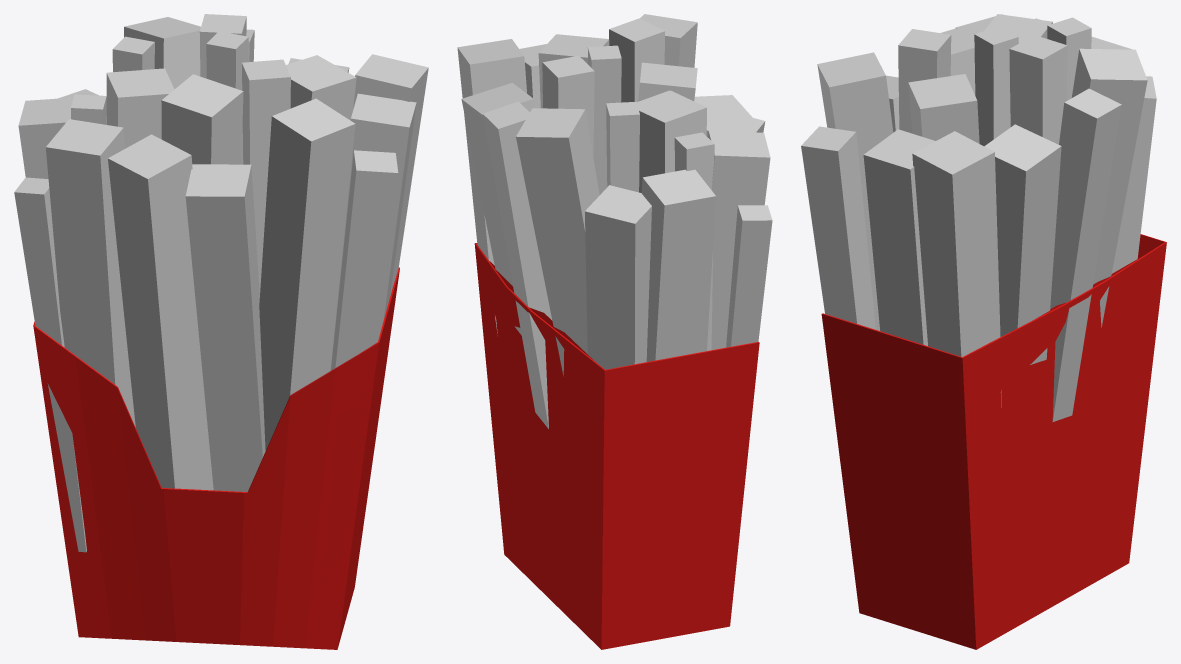
Rendered from kentang.fbx.
3 views of the same model, side by side, from view 1: azimuth 30°, elevation 25°; view 2: azimuth 150°, elevation 25°; view 3: azimuth 270°, elevation 25° (orthographic). The views are drawn at different scales.
Visible parts, largest first — view 1: Cube.025, Cube.019, Cube.022, Cube.013, Cube.020, Cube.012, Cube.009, Cube.021, Cube.023, Cube.005, Cube.007, Cube.010 (+7 smaller); view 2: Cube.025, Cube.017, Cube.006, Cube.014, Cube.011, Cube.020, Cube.009, Cube.010, Cube.016, Cube.007, Cube.018, Cube.024 (+9 smaller); view 3: Cube.025, Cube.010, Cube.011, Cube.016, Cube.012, Cube.005, Cube.017, Cube.022, Cube.004, Cube.015, Cube.024, Cube.014 (+5 smaller).
Part boxes in pixels (x1=…): Cube.025: x1=33, y1=267, x2=399, y2=649; Cube.019: x1=108, y1=134, x2=213, y2=490; Cube.022: x1=259, y1=98, x2=355, y2=450; Cube.013: x1=185, y1=164, x2=265, y2=491; Cube.020: x1=45, y1=119, x2=135, y2=426; Cube.012: x1=330, y1=150, x2=398, y2=370; Cube.009: x1=14, y1=177, x2=86, y2=552; Cube.021: x1=161, y1=74, x2=243, y2=164; Cube.023: x1=242, y1=59, x2=290, y2=296; Cube.005: x1=330, y1=93, x2=416, y2=370; Cube.007: x1=106, y1=68, x2=174, y2=148; Cube.010: x1=353, y1=54, x2=428, y2=296; Cube.025: x1=474, y1=243, x2=759, y2=649; Cube.017: x1=516, y1=108, x2=599, y2=376; Cube.006: x1=641, y1=169, x2=715, y2=361; Cube.014: x1=585, y1=185, x2=651, y2=369; Cube.011: x1=482, y1=101, x2=552, y2=428; Cube.020: x1=708, y1=130, x2=770, y2=349; Cube.009: x1=726, y1=205, x2=772, y2=347; Cube.010: x1=457, y1=39, x2=526, y2=335; Cube.016: x1=461, y1=82, x2=535, y2=334; Cube.007: x1=636, y1=90, x2=706, y2=192; Cube.018: x1=606, y1=101, x2=639, y2=192; Cube.024: x1=587, y1=45, x2=621, y2=194; Cube.025: x1=821, y1=234, x2=1166, y2=649; Cube.010: x1=912, y1=131, x2=1001, y2=407; Cube.011: x1=1050, y1=88, x2=1121, y2=421; Cube.016: x1=984, y1=124, x2=1061, y2=364; Cube.012: x1=801, y1=126, x2=875, y2=329; Cube.005: x1=863, y1=129, x2=935, y2=345; Cube.017: x1=1071, y1=48, x2=1147, y2=327; Cube.022: x1=817, y1=52, x2=893, y2=330; Cube.004: x1=1009, y1=35, x2=1067, y2=144; Cube.015: x1=908, y1=74, x2=979, y2=143; Cube.024: x1=974, y1=26, x2=1018, y2=146; Cube.014: x1=1111, y1=76, x2=1156, y2=273.
Size of the model in its own units: 205 by 298 by 177.
